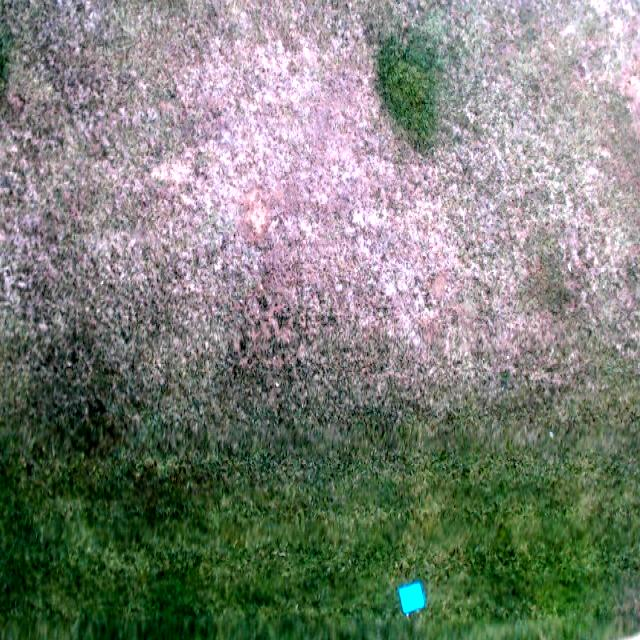blue_square: (398, 582, 426, 615)
